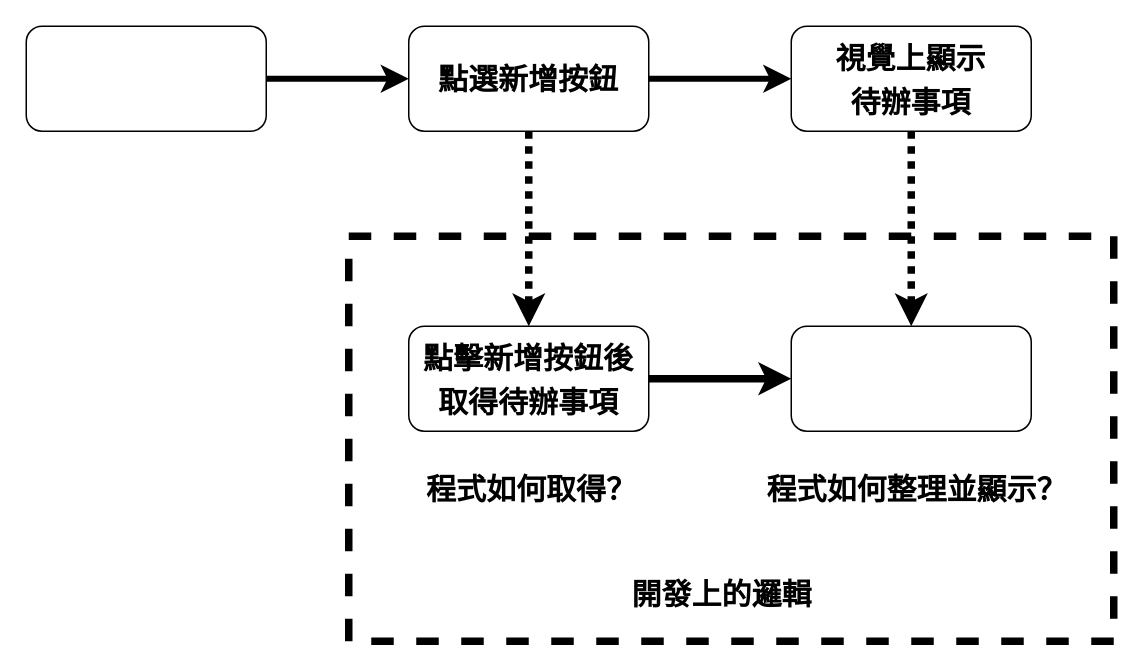
Image size: 1143x671. Some labels were removed from this diagram. The shapes that lost their labels are listed below. From the top down, each one's centre as x and y in pixels, then its label:
the point at 145,78: 填入待辦事項
the point at 910,378: 將整理好的資料 依序顯示於網頁
